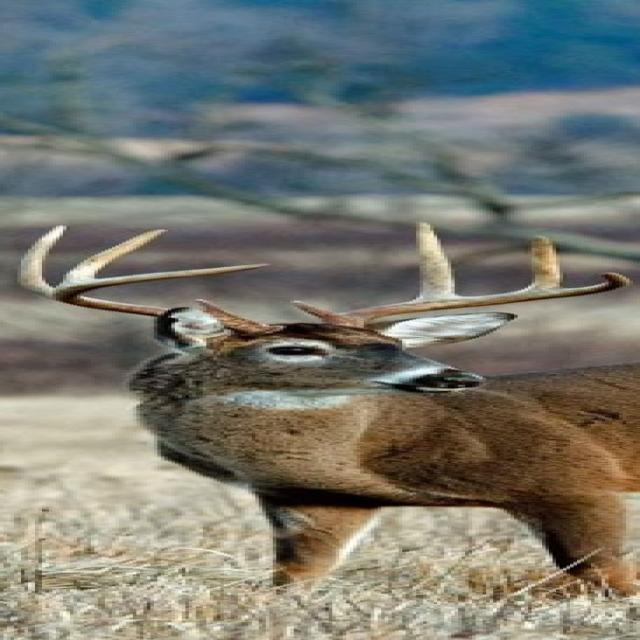L-F: (321, 272, 630, 330)
L-G1: (290, 300, 337, 320)
L-G2: (412, 221, 464, 301)
L-G3: (517, 234, 564, 291)
R-G1: (193, 299, 235, 315)
R-G2: (16, 224, 71, 299)
R-G3: (57, 229, 171, 285)
